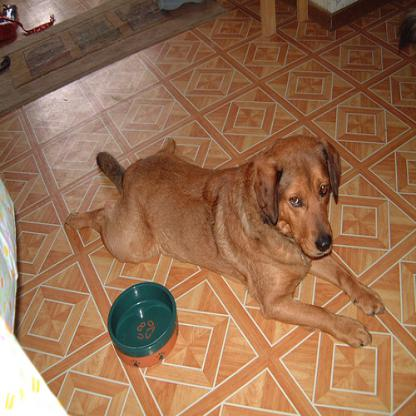dog: (64, 133, 386, 348)
